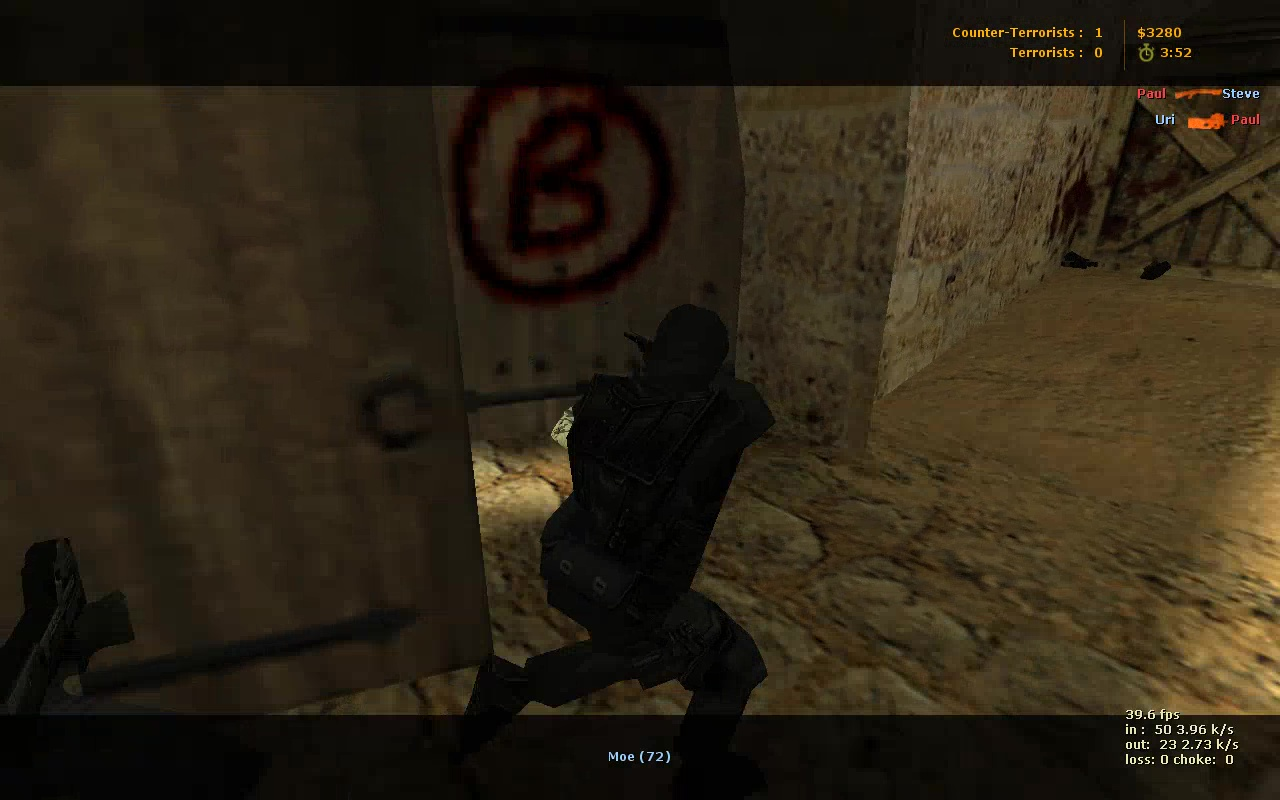ct: (458, 299, 784, 720)
